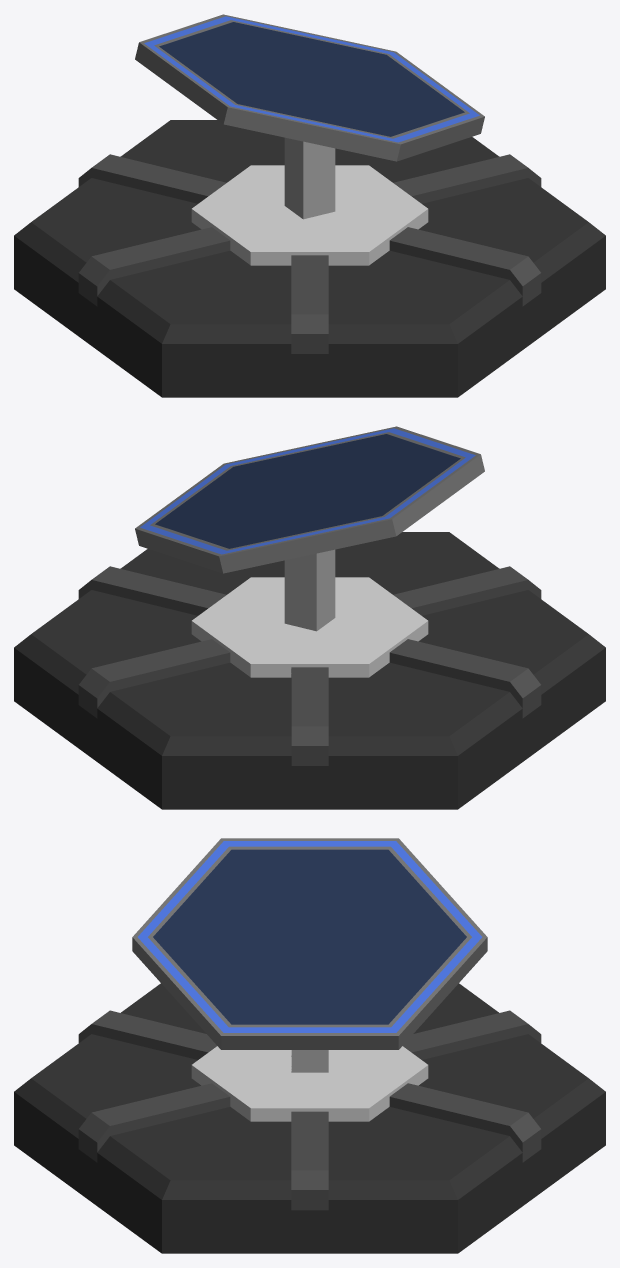
Rendered from SolarPanel_TD_2.fbx.
3 views of the same model, one above another, from view 1: azimuth 30°, elevation 25°; view 2: azimuth 150°, elevation 25°; view 3: azimuth 270°, elevation 25° (orthographic).
Visible parts, largest first — view 1: Cylinder.002, Cylinder.003; view 2: Cylinder.002, Cylinder.003; view 3: Cylinder.002, Cylinder.003.
Boxes of the visible parts, x1=… form: Cylinder.002: x1=14, y1=120, x2=605, y2=397; Cylinder.003: x1=135, y1=14, x2=484, y2=161; Cylinder.002: x1=14, y1=532, x2=605, y2=809; Cylinder.003: x1=135, y1=426, x2=484, y2=573; Cylinder.002: x1=14, y1=983, x2=605, y2=1253; Cylinder.003: x1=132, y1=838, x2=487, y2=1049.
Size of the model in its own units: 693 by 366 by 800.
